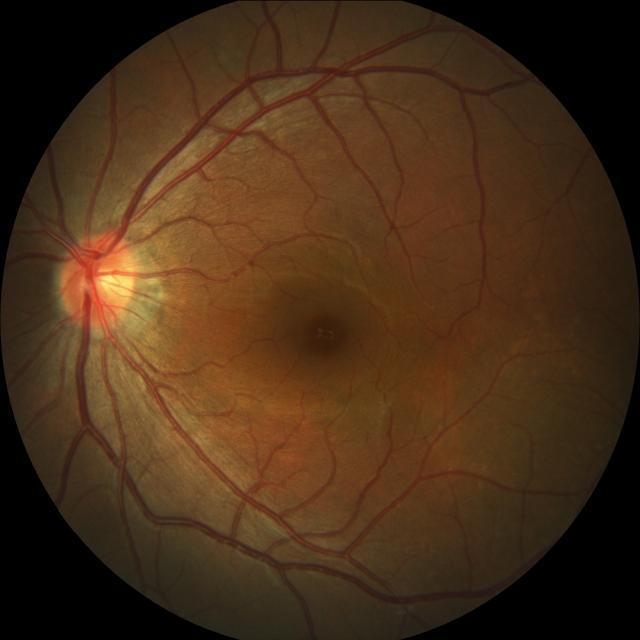OC: (93, 266, 129, 294)
OD: (60, 232, 139, 330)
